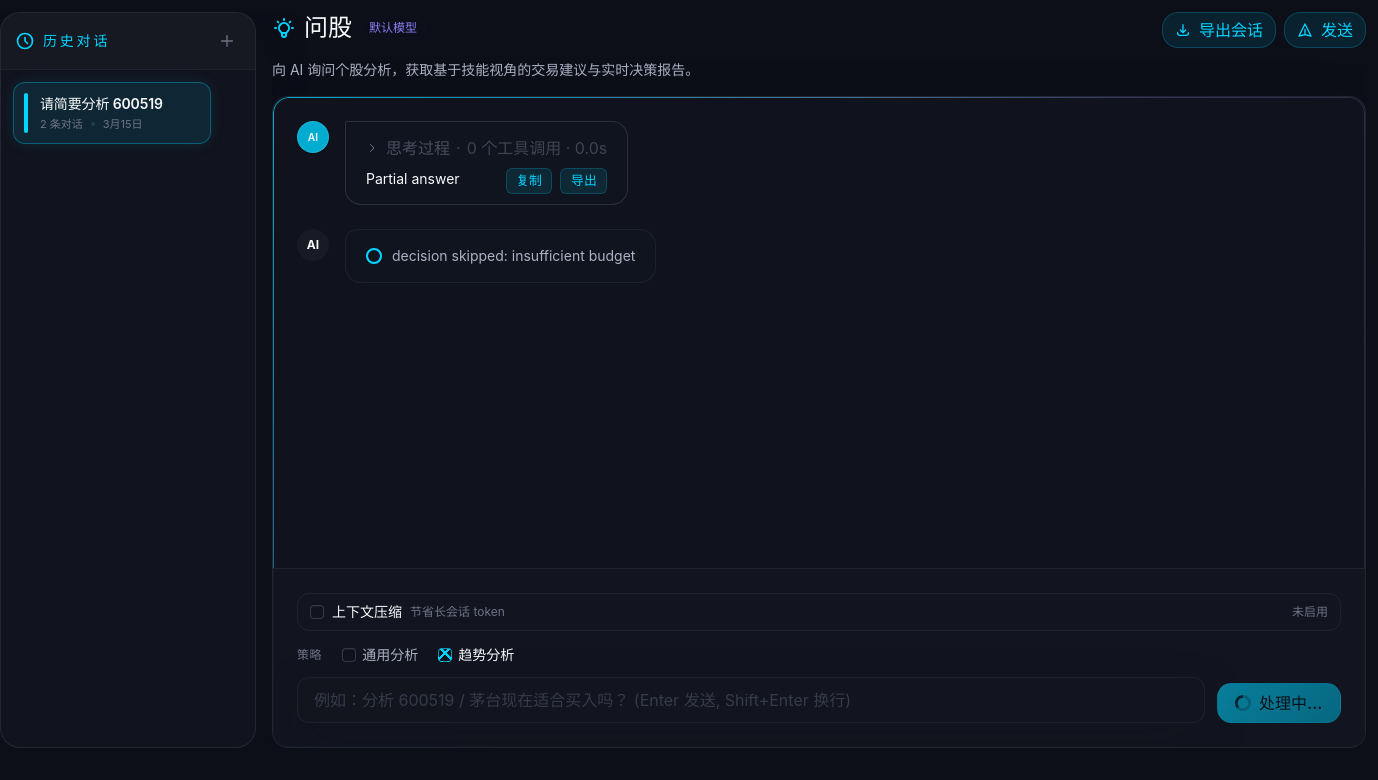
Scenario: ChatPage › renders pipeline budget skip progress without timeout severity
The image size is (1378, 780).
expect the text "decision skipped: insufficient budget" is shown once: met, box [392,246,636,266]
Click the button "思考过程 · 0 个工具调用 · 0.0s": [487, 148] box [366,136,607,160]
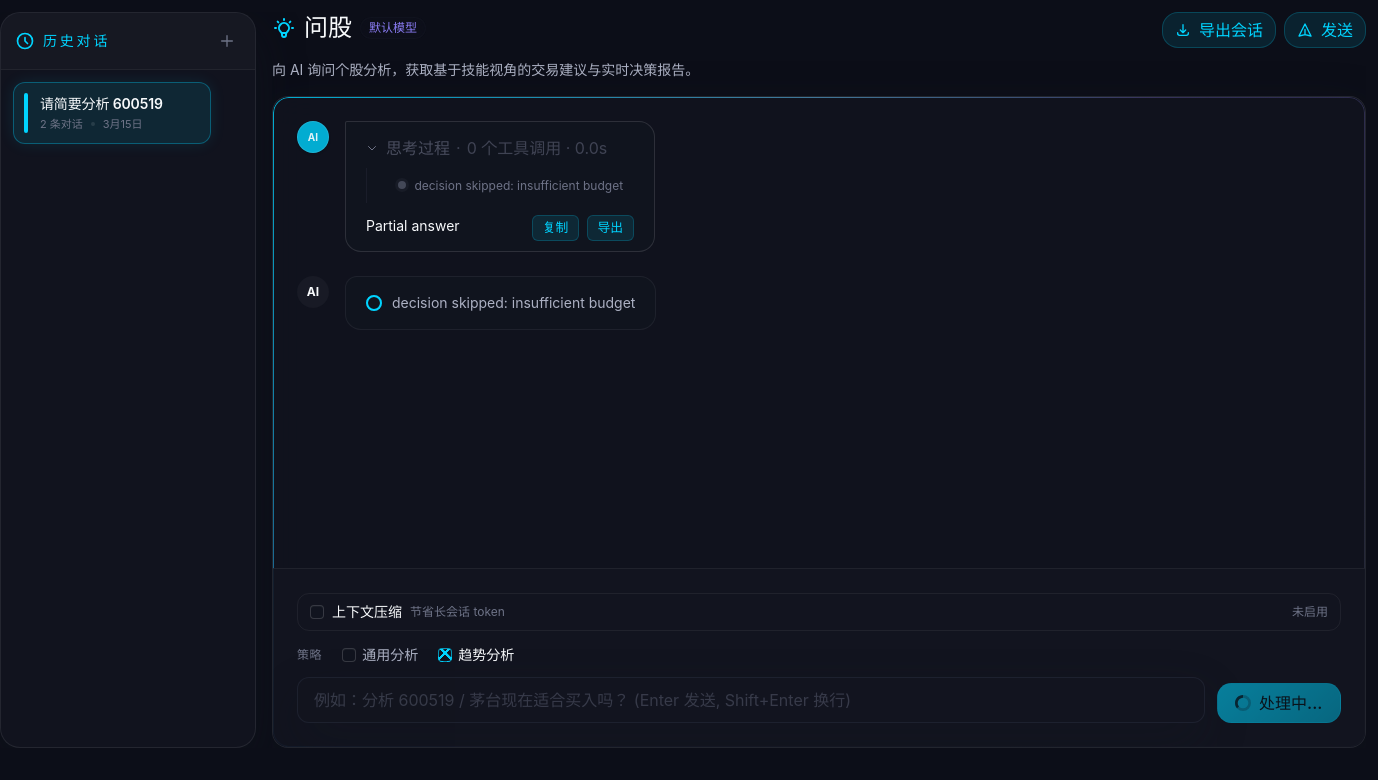
expect the 1st text "decision skipped: insufficient budget" is shown: met, box [414,176,623,195]
